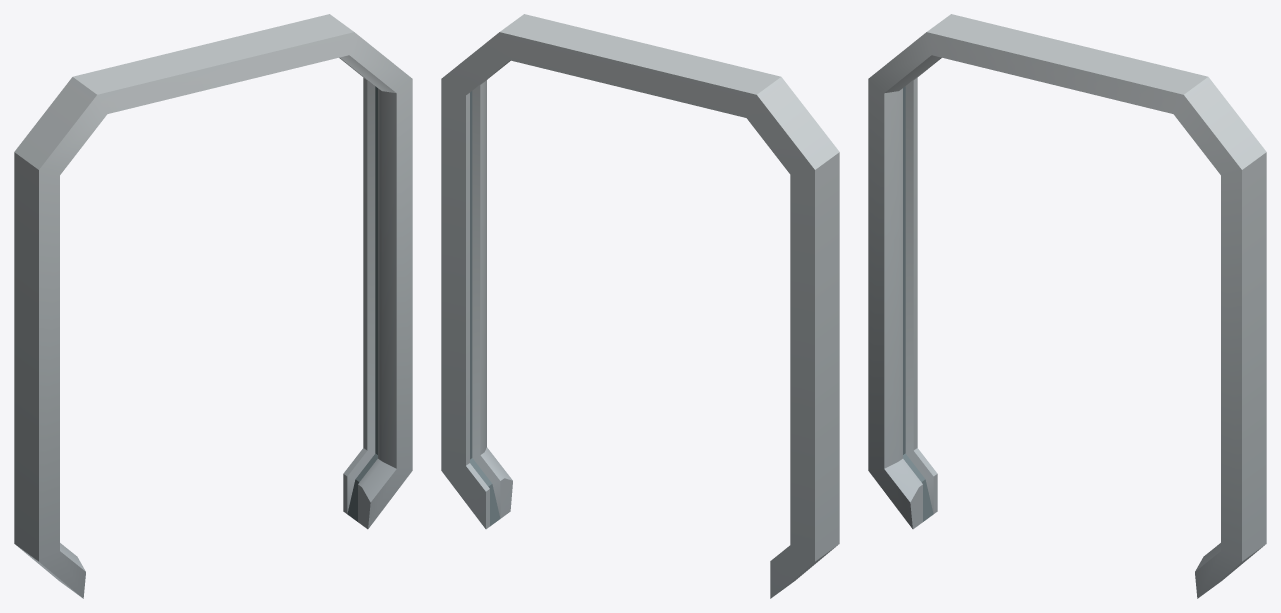
The model's file is Door_003.fbx.
3 views of the same model, side by side, from view 1: azimuth 30°, elevation 25°; view 2: azimuth 150°, elevation 25°; view 3: azimuth 330°, elevation 25° (orthographic).
Parts seen in each view (by area): view 1: Door_003; view 2: Door_003; view 3: Door_003.
Boxes of the visible parts, box(x1,y1,x2,y2) form: Door_003: box(14, 14, 412, 598); Door_003: box(441, 14, 839, 598); Door_003: box(868, 14, 1266, 598).
Bounding box in the file's own units: 263 × 33.15 × 336.
